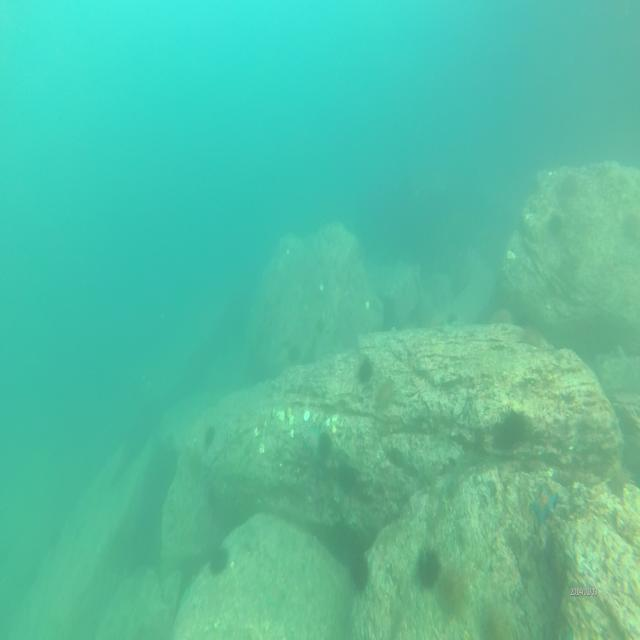echinus: (502, 408, 528, 451), (418, 544, 441, 585), (349, 552, 368, 593), (374, 376, 396, 406), (209, 544, 228, 576), (358, 357, 372, 387), (316, 430, 332, 456), (202, 424, 215, 446)
starfish: (528, 482, 558, 526)
